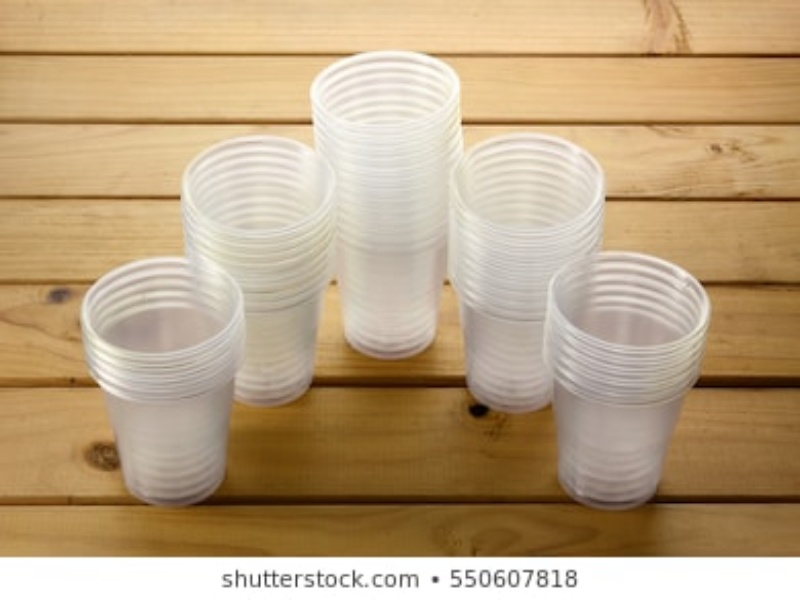plastic-cup: (310, 49, 459, 359), (76, 254, 248, 508), (540, 253, 712, 507), (181, 136, 336, 413), (445, 133, 600, 410)
